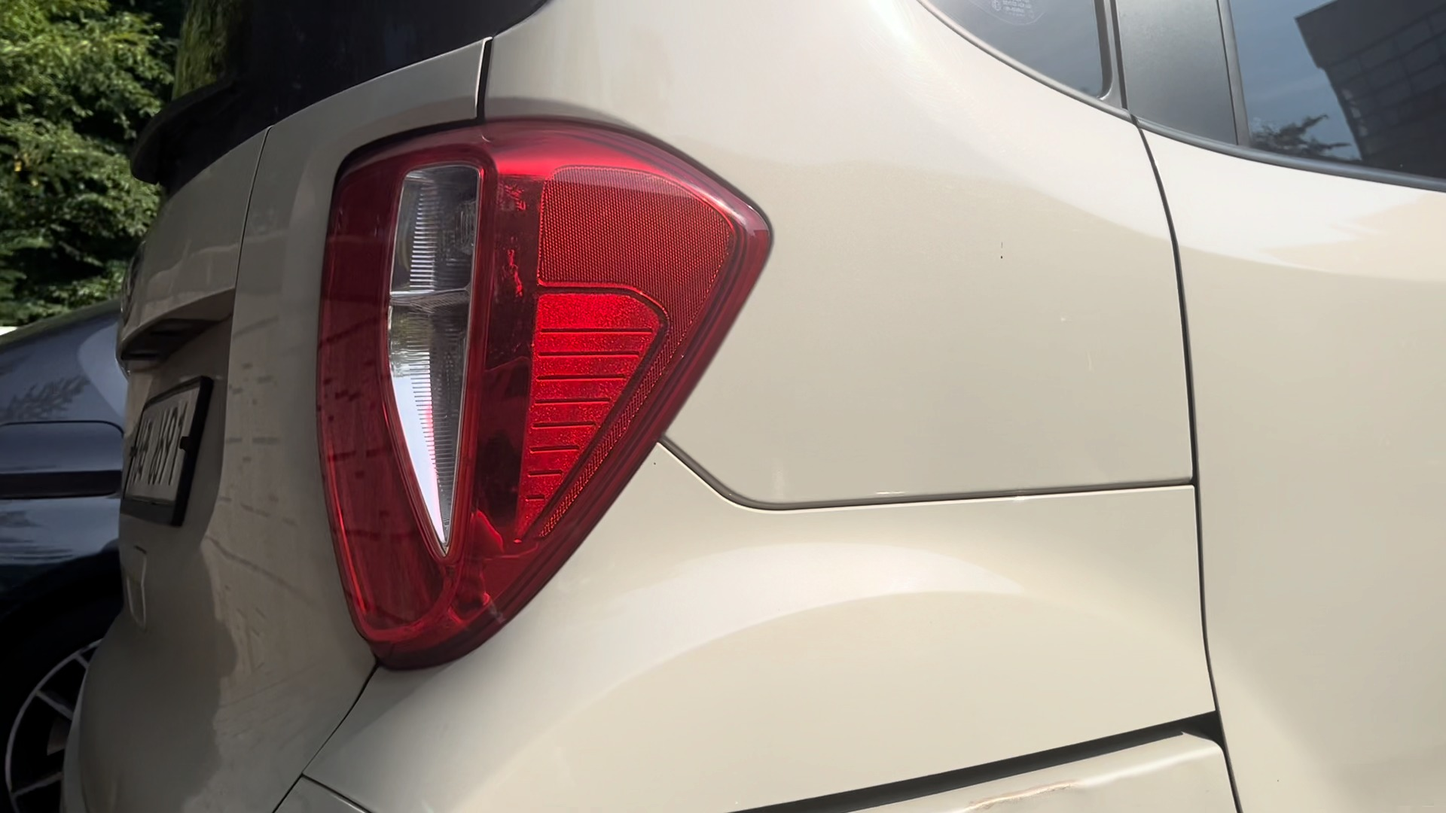license_plate: (115, 374, 211, 524)
tail_light: (313, 116, 775, 665)
